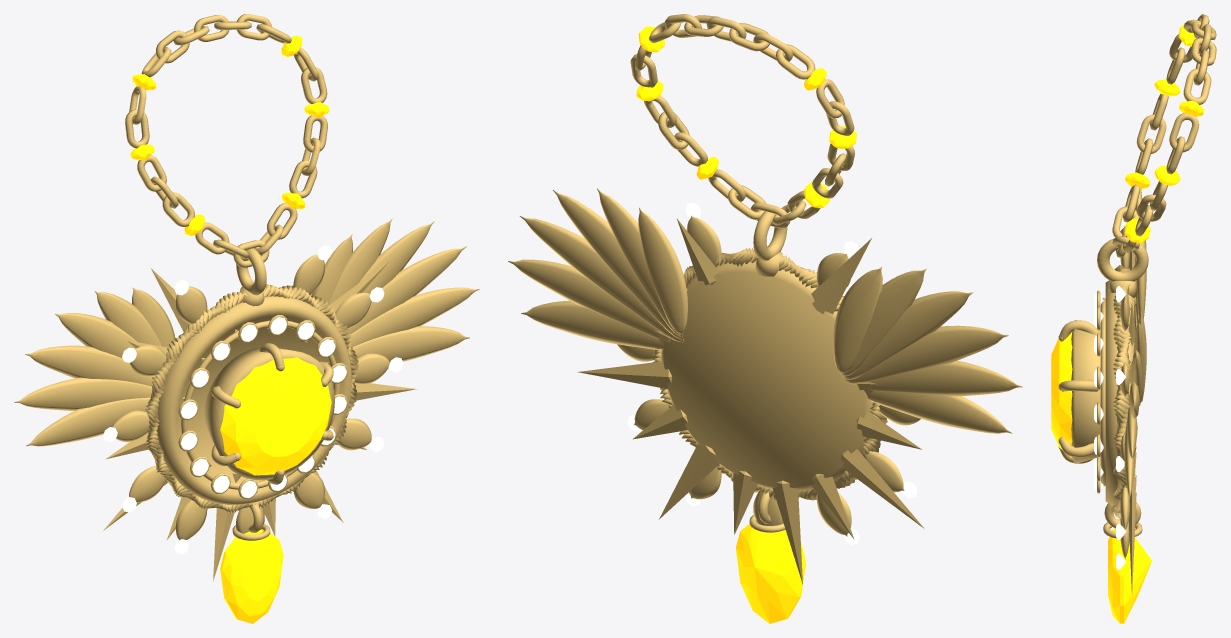
File: jewel_amulet_legendary.glb
3 renders of one model, left to right at view 1: azimuth 30°, elevation 25°; view 2: azimuth 150°, elevation 25°; view 3: azimuth 270°, elevation 25°, orthographic. The views are drawn at different scales.
Parts seen in each view (by area): view 1: jewel_amulet_legendary; view 2: jewel_amulet_legendary; view 3: jewel_amulet_legendary.
Part boxes in pixels (box(x1,y1,x2,y2)): jewel_amulet_legendary: box(14, 14, 479, 623); jewel_amulet_legendary: box(508, 14, 1022, 623); jewel_amulet_legendary: box(1051, 14, 1216, 623).
Size of the model in its own units: 4.82 by 5.7 by 1.44.
